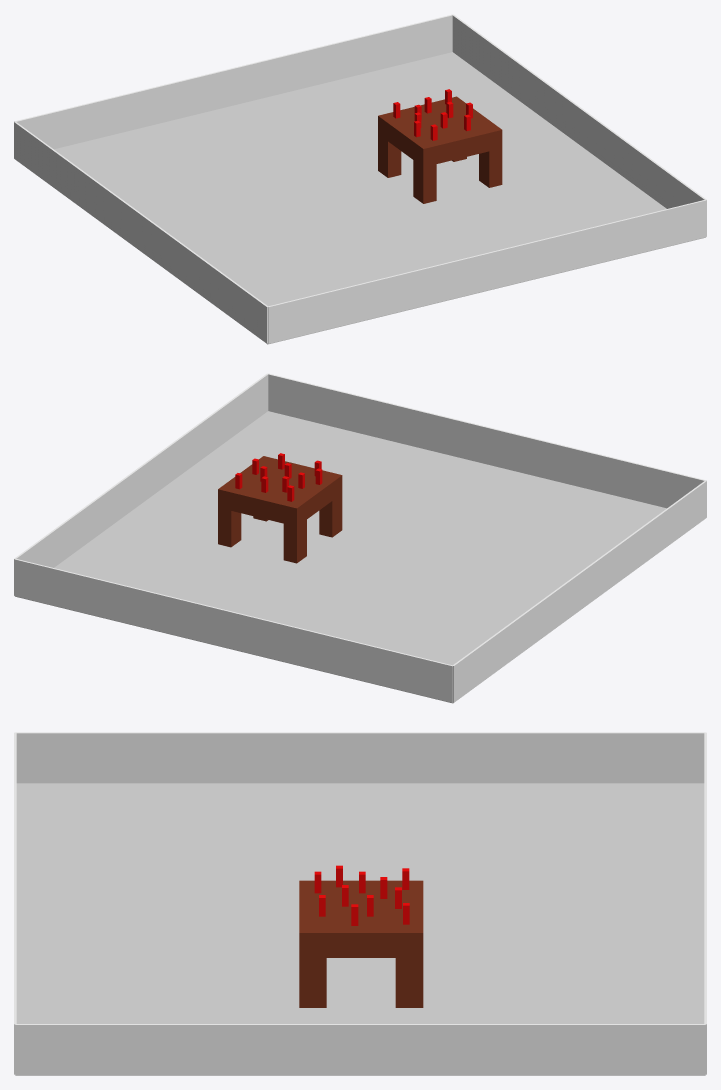
The picture shows the model from 3 angles, top to bottom: view 1: azimuth 30°, elevation 25°; view 2: azimuth 150°, elevation 25°; view 3: azimuth 270°, elevation 25°; orthographic projection. The views are drawn at different scales.
Visible parts, largest first — view 1: _dummylink0_ (×5), base (×4); view 2: _dummylink0_ (×5), base (×4); view 3: _dummylink0_ (×5), base (×3).
Boxes of the visible parts, bbox=[...] form: _dummylink0_ (×5): bbox=[14, 14, 706, 344]; base (×4): bbox=[378, 96, 502, 203]; _dummylink0_ (×5): bbox=[14, 373, 706, 703]; base (×4): bbox=[218, 456, 342, 563]; _dummylink0_ (×5): bbox=[14, 732, 706, 1075]; base (×3): bbox=[299, 880, 423, 1007].
Bounding box in the file's own units: 5.02 × 5.02 × 0.7629.
